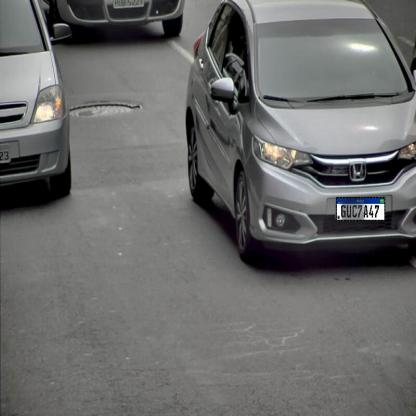PlacaM: (336, 197, 385, 221)
